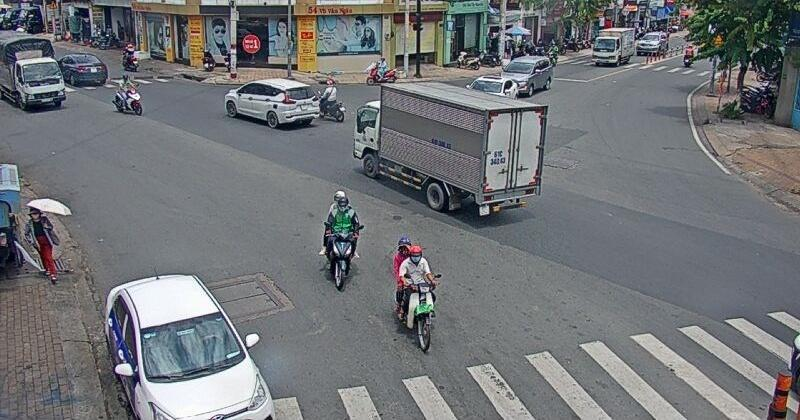xe hoi: (97, 270, 283, 420), (226, 78, 317, 132), (58, 51, 108, 85)
xe may: (393, 237, 436, 353), (319, 192, 363, 290), (316, 79, 347, 123), (111, 74, 142, 115)
xe tai: (356, 76, 549, 221), (0, 29, 65, 113)
